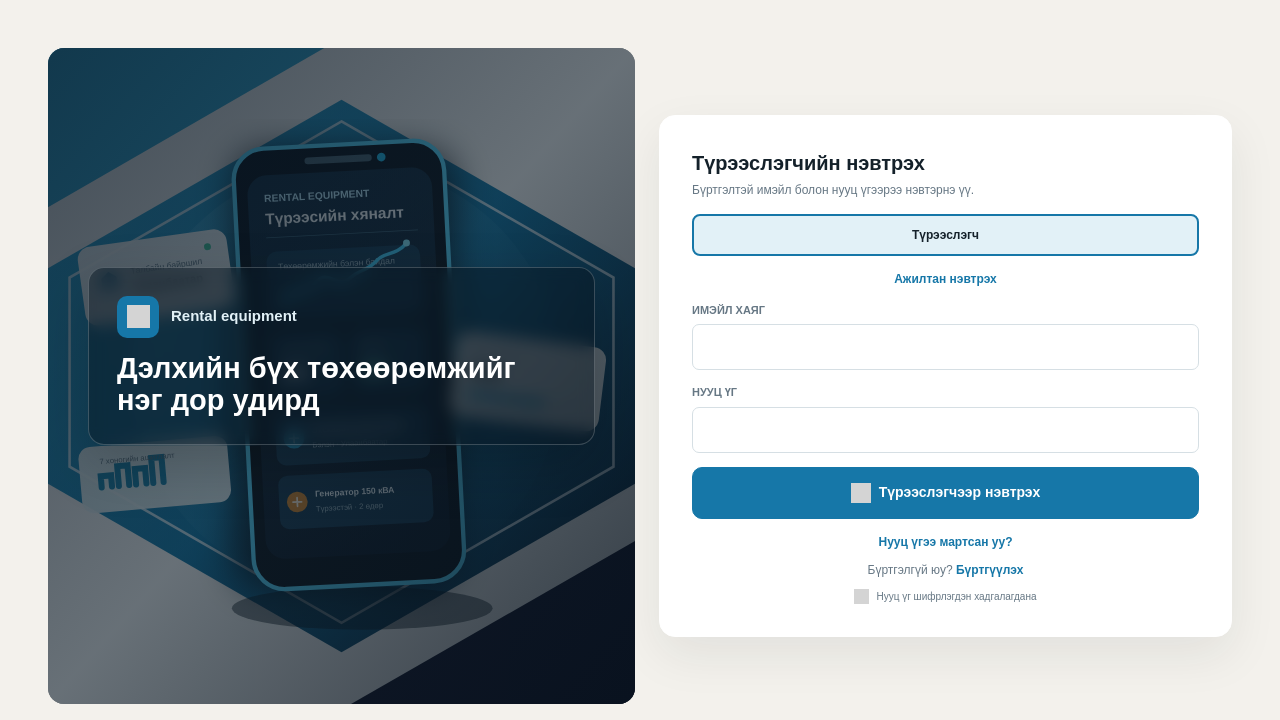
MobileLogin › shows a fallback error when login rejects with a non-Error value
The width and height of the screenshot is (1280, 720).
Click the button "Ажилтан нэвтрэх" at (946,279), box [894,270,997,288]
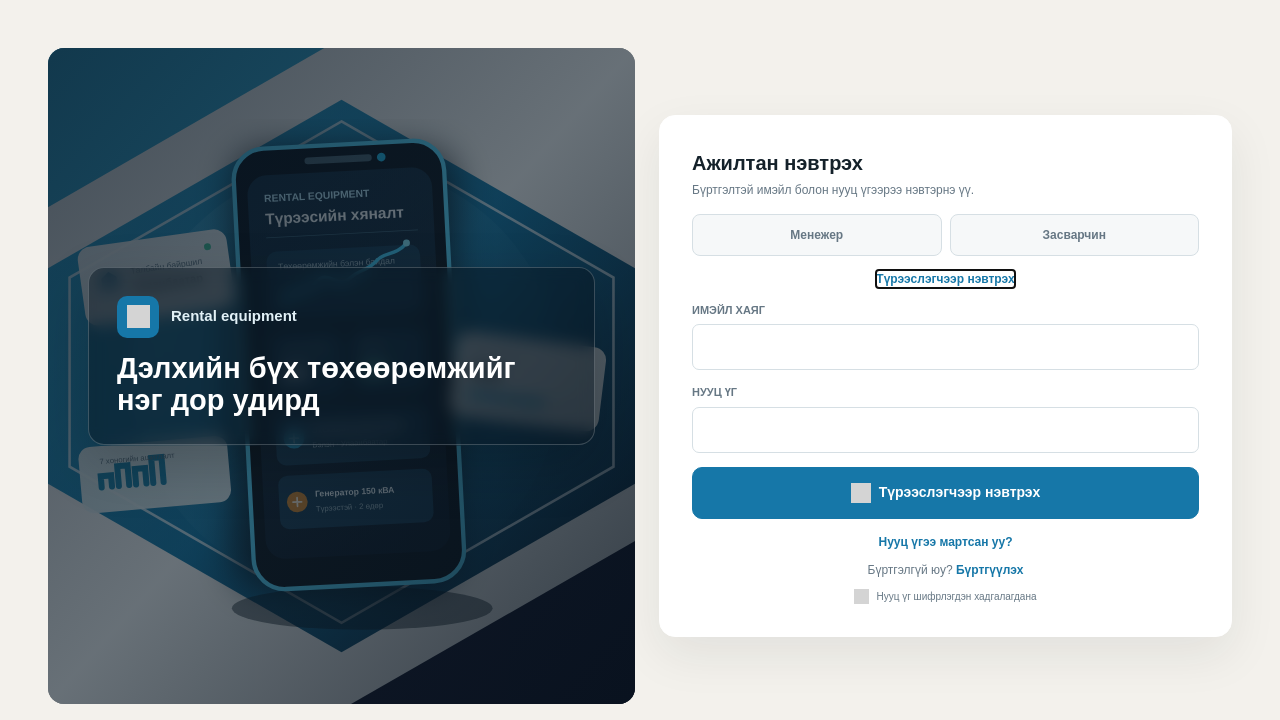
Click the button with aria-label "Менежер Тайлан" at (817,235), box [692,214,942,256]
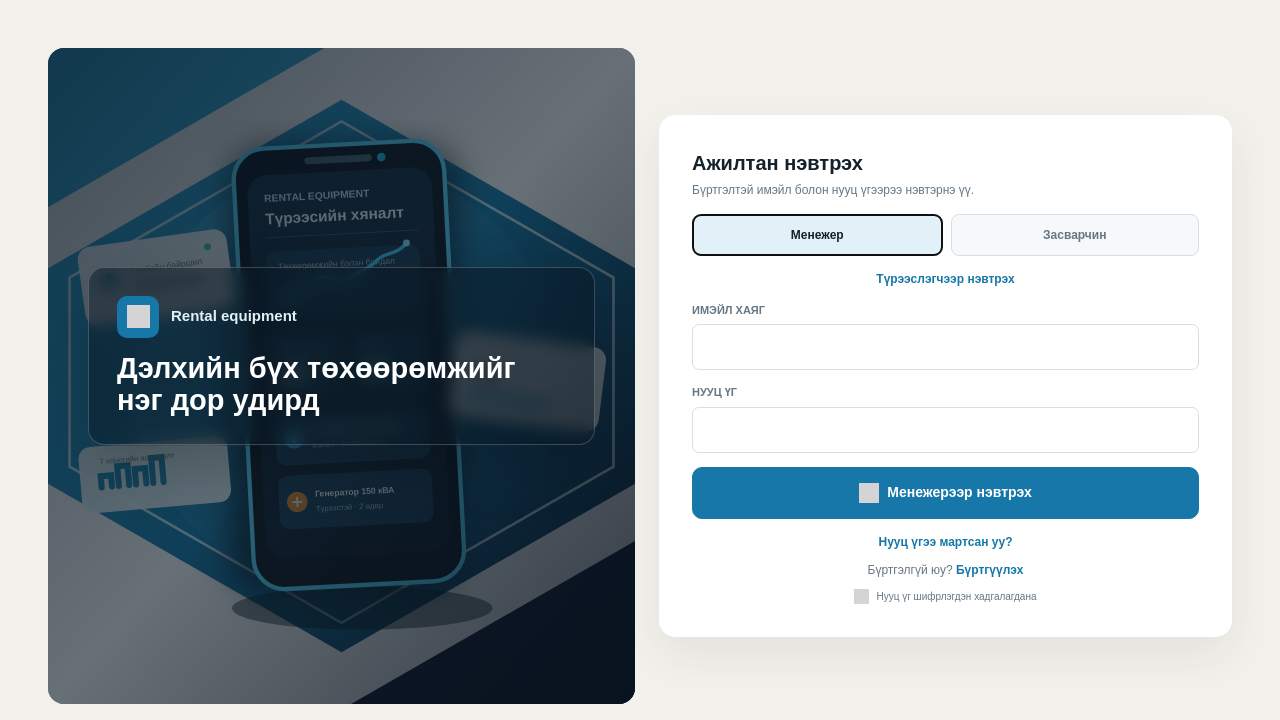
Type "test@example.com" into the field labelled "ИМЭЙЛ ХАЯГ" at (946,347), box [692,324,1199,370]
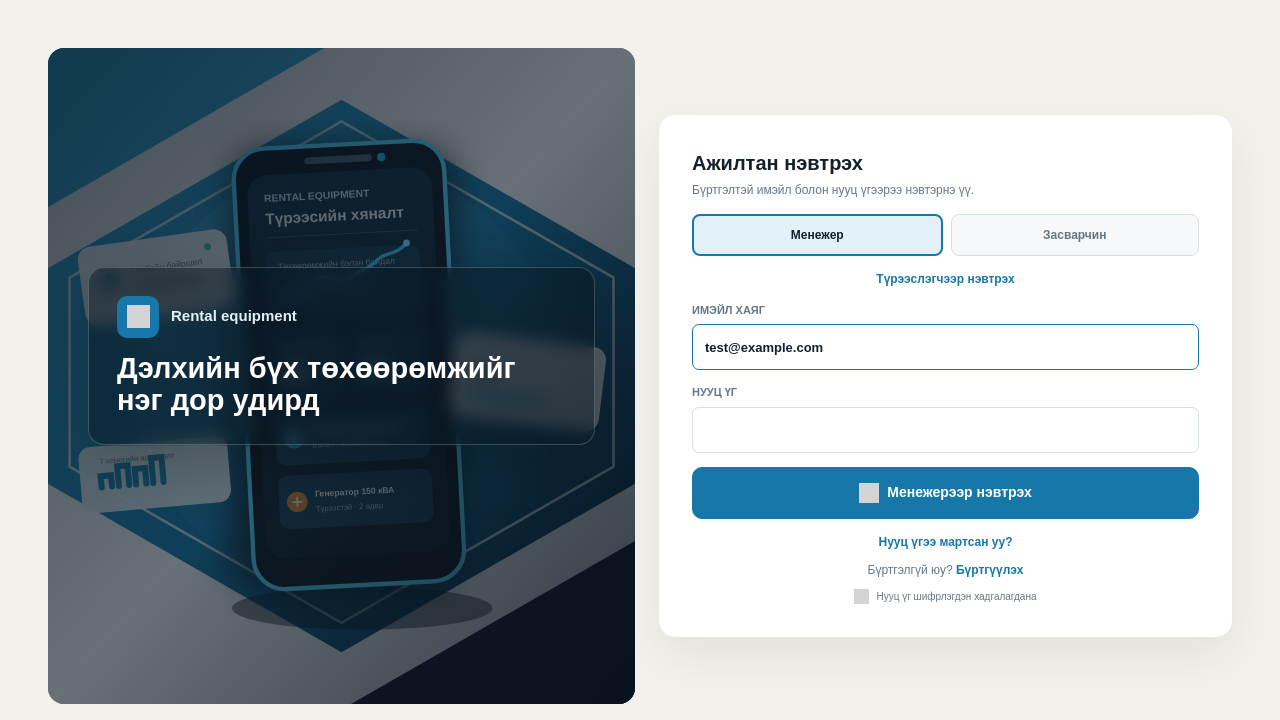
Type "wrong-password" into the password field labelled "НУУЦ ҮГ" at (946,430), box [692,407,1199,453]
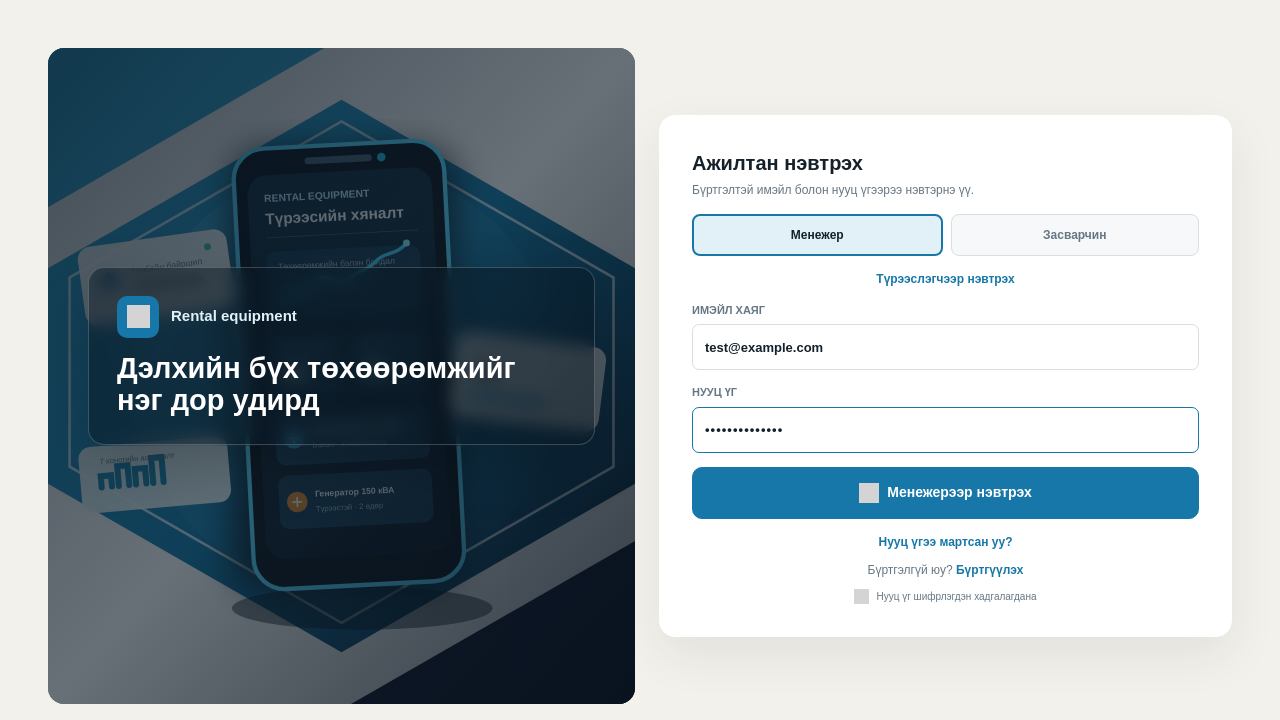
Click the button "Менежерээр нэвтрэх" at (946,493), box [692,467,1199,519]
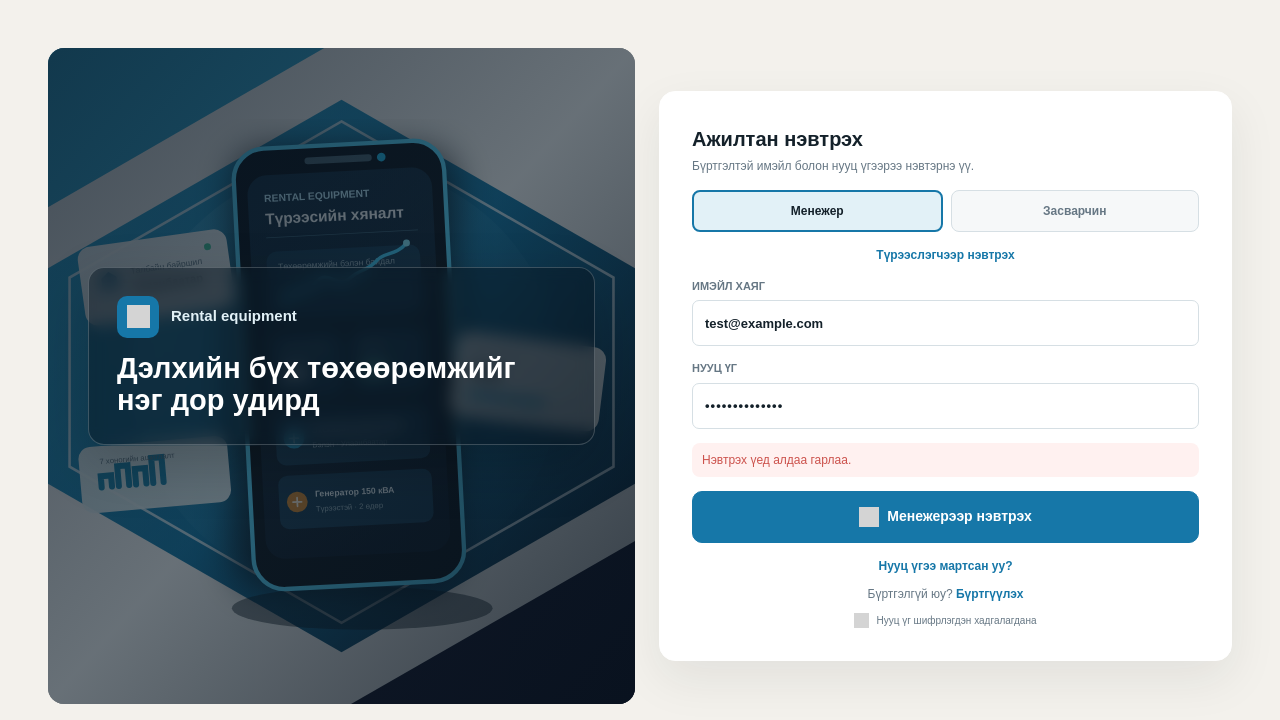
Now the text "Нэвтрэх үед алдаа гарлаа." is shown, box [692,443,1199,477]
